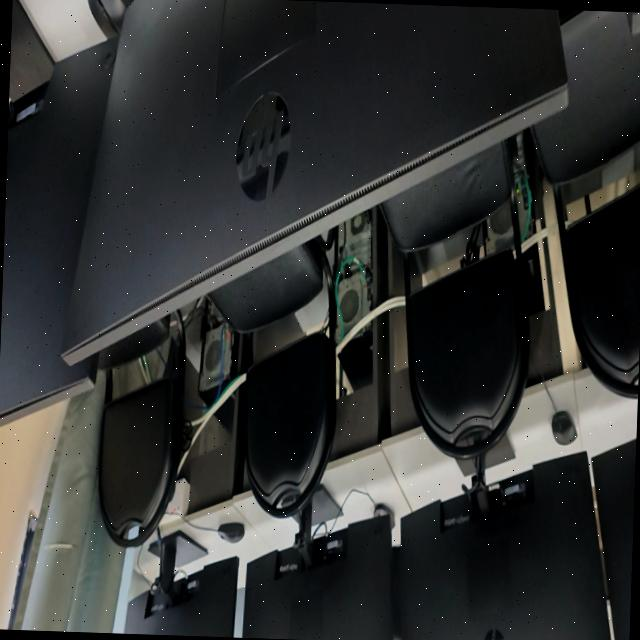Chair: (379, 137, 528, 458), (530, 9, 640, 396), (206, 238, 336, 517), (96, 309, 185, 546)
Monitor: (61, 0, 567, 362), (0, 36, 117, 420), (398, 451, 609, 640), (241, 514, 392, 640), (4, 126, 86, 339), (123, 556, 237, 637), (591, 437, 636, 640)
